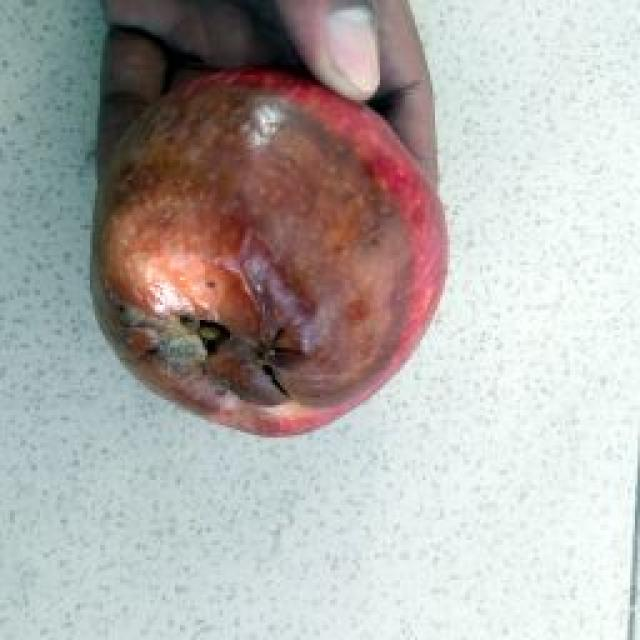Bad_Apple: (96, 71, 445, 434)
